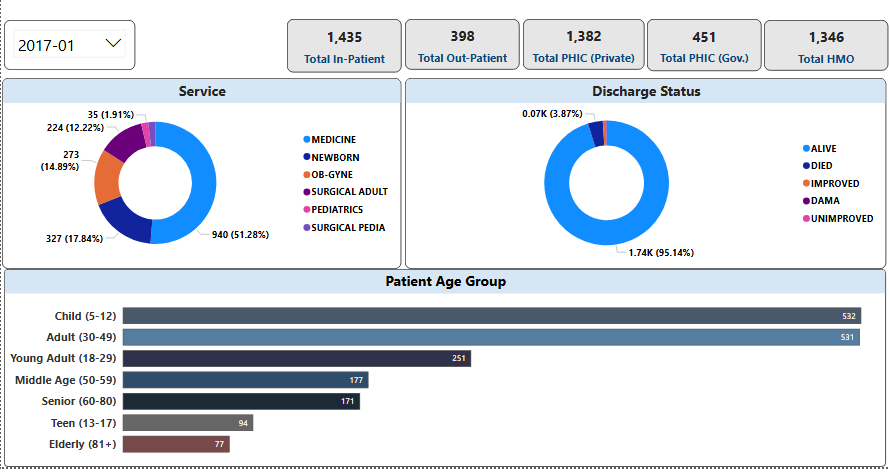

What the dashboard file says about the page in this screenshot:
{"tool":"powerbi","page":{"name":"Page 1","canvas":[1280,720],"ordinal":0},"visuals":[{"type":"card","fields":{"Values":["patient.Total Outpatients"]},"box":[581.8,75,165.4,73.5],"z":0},{"type":"card","fields":{"Values":["patient.Total Inpatients"]},"box":[411.9,75,165.4,76.6],"z":1000},{"type":"barChart","title":"Patient Age Group","fields":{"Y":["CountNonNull(patient.age group)"],"Category":["patient.age group"]},"box":[4.3,434.9,1270.1,285.1],"z":2000},{"type":"card","fields":{"Values":["patient.Total HMO"]},"box":[1099.3,76.6,179.1,73.5],"z":3000},{"type":"card","fields":{"Values":["patient.Total Philhealth (Private)"]},"box":[751.8,75,174.5,73.5],"z":4000},{"type":"card","fields":{"Values":["patient.Total Philhealth (Goverment)"]},"box":[930.9,75,165.4,75],"z":5000},{"type":"donutChart","title":"Service","fields":{"Y":["CountNonNull(patient.service)"],"Category":["patient.service"]},"box":[1.4,159.8,574.6,275],"z":6000},{"type":"slicer","fields":{"Values":["patient.YearMonth Clean"]},"box":[4.3,76.3,188.6,72],"z":7000},{"type":"donutChart","title":"Discharge Status","fields":{"Category":["patient.discstatus"],"Y":["CountNonNull(patient.discstatus)"]},"box":[581.8,159.8,692.6,275],"z":8000}]}

Visuals, with their boxes on the page's 1280x720 design canvas (x1, y1, x2, y2). These are canvas units, not pixel positions in the 889x472 screenshot, which may show the page scaled, cropped or inside an application window:
card - patient.Total Outpatients: box(582, 75, 747, 148)
card - patient.Total Inpatients: box(412, 75, 577, 152)
"Patient Age Group" barChart: box(4, 435, 1274, 720)
card - patient.Total HMO: box(1099, 77, 1278, 150)
card - patient.Total Philhealth (Private): box(752, 75, 926, 148)
card - patient.Total Philhealth (Goverment): box(931, 75, 1096, 150)
"Service" donutChart: box(1, 160, 576, 435)
slicer - patient.YearMonth Clean: box(4, 76, 193, 148)
"Discharge Status" donutChart: box(582, 160, 1274, 435)
